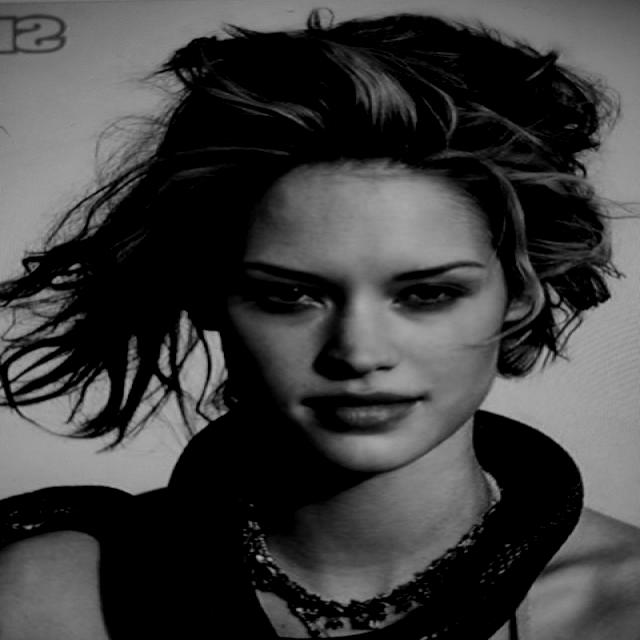fake: (92, 18, 622, 484)
